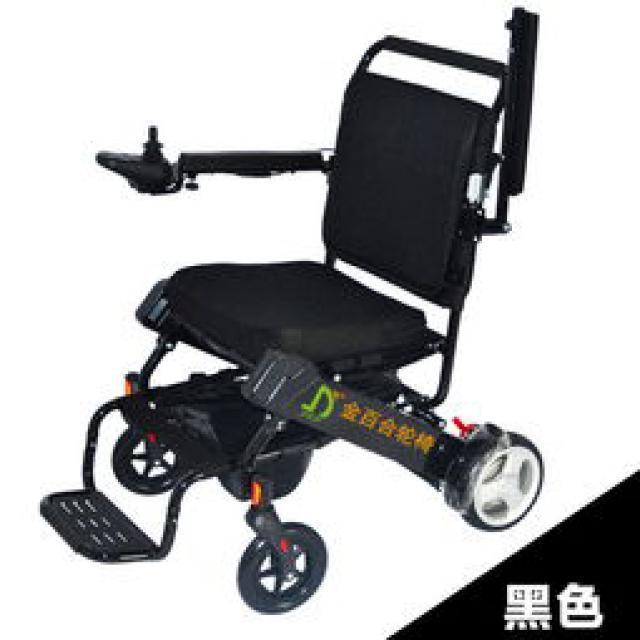wheelchairs: (67, 34, 543, 611)
